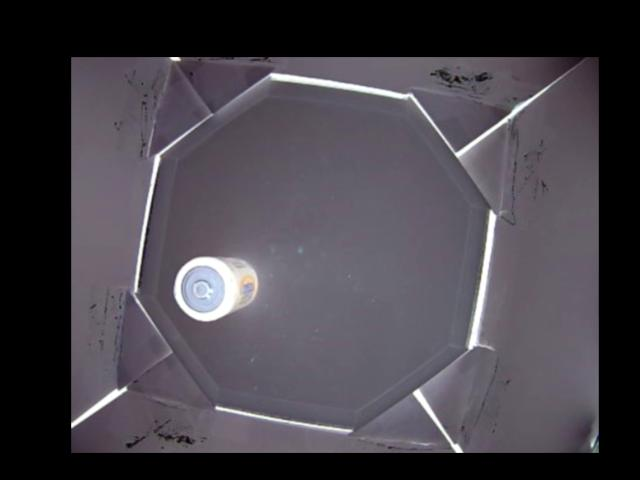Battery: (172, 257, 258, 321)
